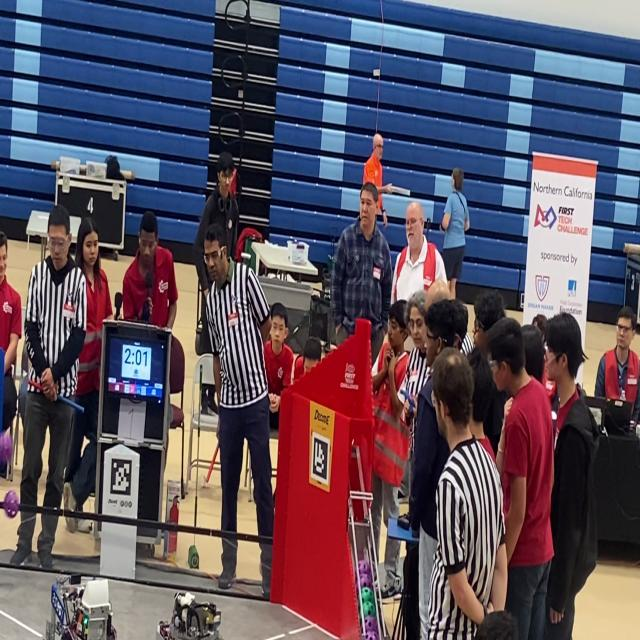artifact_purple: (4, 490, 19, 518), (0, 431, 12, 464), (362, 601, 376, 617), (359, 560, 371, 577), (364, 617, 377, 632), (361, 588, 374, 602), (360, 575, 372, 589), (366, 632, 378, 639)
